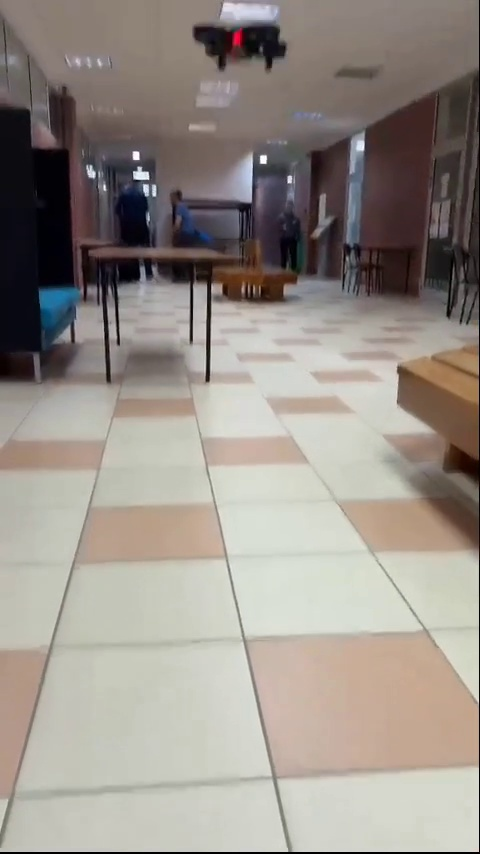drone: (191, 24, 283, 73)
no vest: (165, 183, 215, 256), (274, 196, 313, 282), (116, 175, 159, 249)
